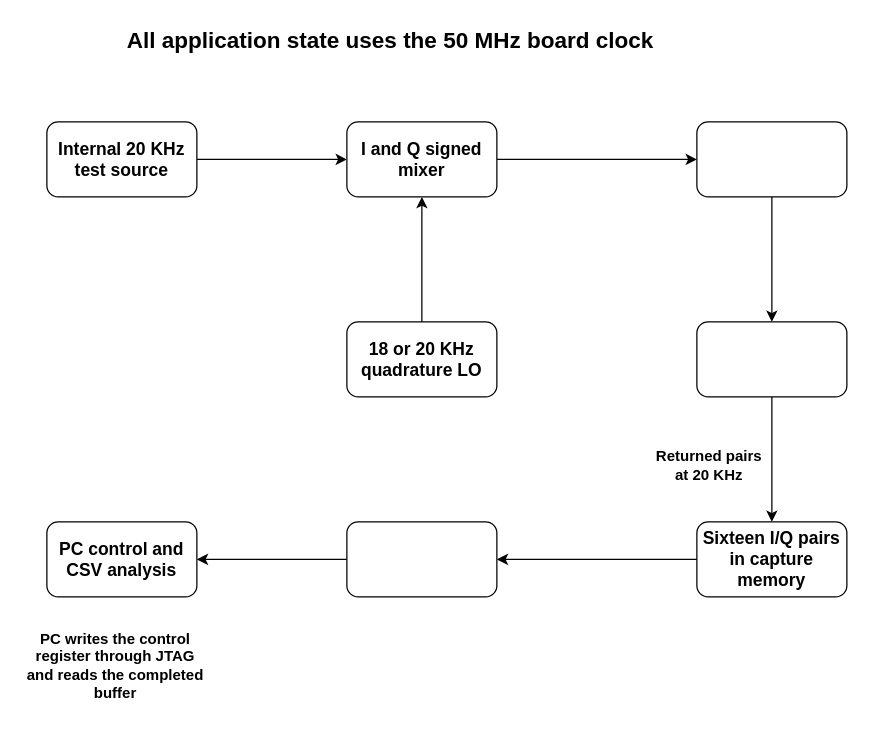
Some shapes in this 869 by 730 pixel diagram are drawn without their labels. Here are the shapes that lost their labels. From the top down, the box of each, then its label:
(696, 121, 847, 197): Matched nine tap FIR filters
(696, 321, 847, 397): Warm up and decimation by five
(346, 521, 497, 597): JTAG source and probe
